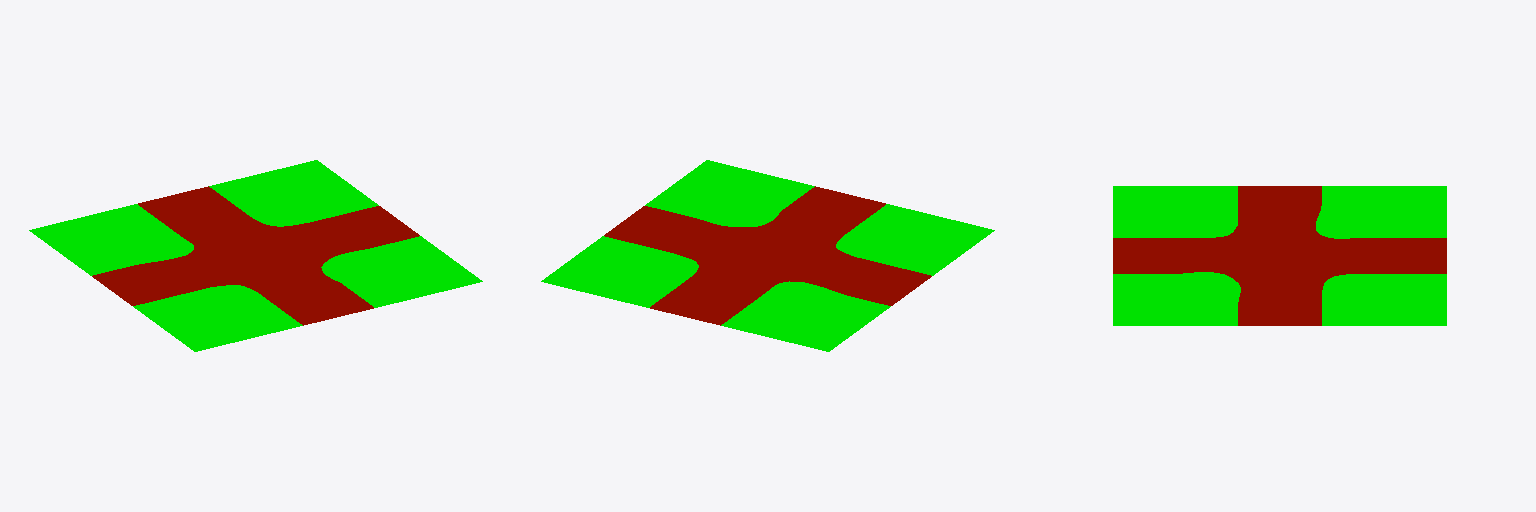
File: Crossroads.obj
The picture shows the model from 3 angles: view 1: azimuth 30°, elevation 25°; view 2: azimuth 150°, elevation 25°; view 3: azimuth 270°, elevation 25°; orthographic projection.
Size of the model in its own units: 20 by 0 by 20.